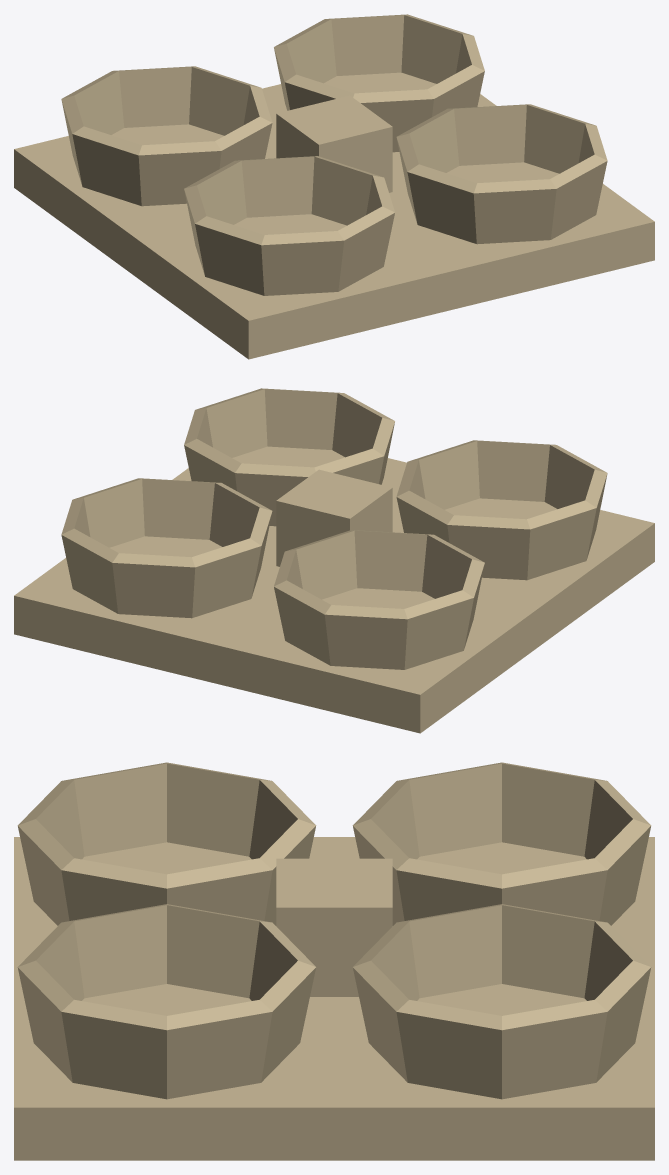
The model's file is b16_molded_four_cup_carrier.glb.
The picture shows the model from 3 angles, top to bottom: view 1: azimuth 30°, elevation 25°; view 2: azimuth 150°, elevation 25°; view 3: azimuth 270°, elevation 25°; orthographic projection. The views are drawn at different scales.
Visible parts, largest first — view 1: b16_molded_four_cup_carrier; view 2: b16_molded_four_cup_carrier; view 3: b16_molded_four_cup_carrier.
Part boxes in pixels (<box>): b16_molded_four_cup_carrier: <box>14,14,654,359</box>; b16_molded_four_cup_carrier: <box>14,388,654,733</box>; b16_molded_four_cup_carrier: <box>14,762,654,1160</box>.
Size of the model in its own units: 0.176 by 0.043 by 0.176.
